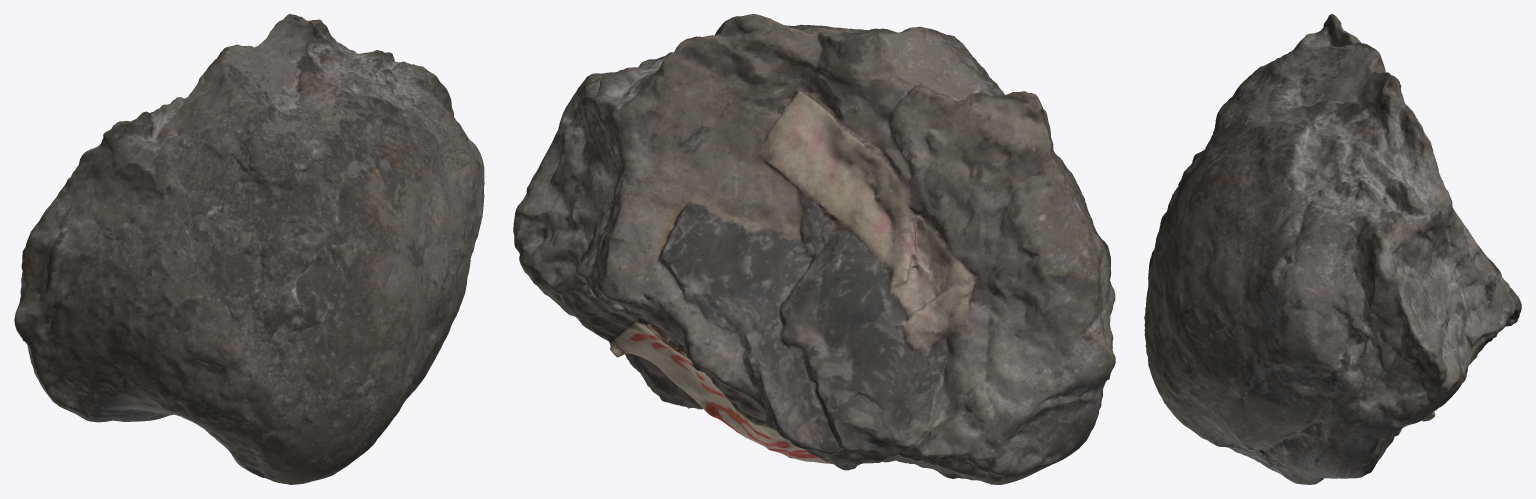
File: EWS0014104.glb
3 renders of one model, left to right at view 1: azimuth 30°, elevation 25°; view 2: azimuth 150°, elevation 25°; view 3: azimuth 270°, elevation 25°, orthographic. The views are drawn at different scales.
Visible parts, largest first — view 1: input; view 2: input; view 3: input.
Part boxes in pixels (left/top/right/bottom): input: left=14, top=14, right=484, bottom=484; input: left=513, top=14, right=1115, bottom=484; input: left=1144, top=14, right=1521, bottom=484.
Size of the model in its own units: 0.0258 by 0.0213 by 0.0179.
1 material, 1 textured.
